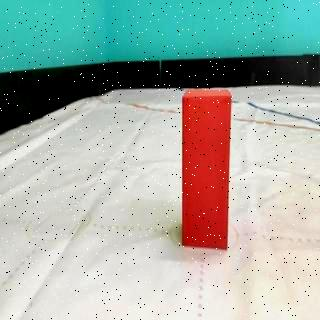redbox: (182, 87, 228, 248)
